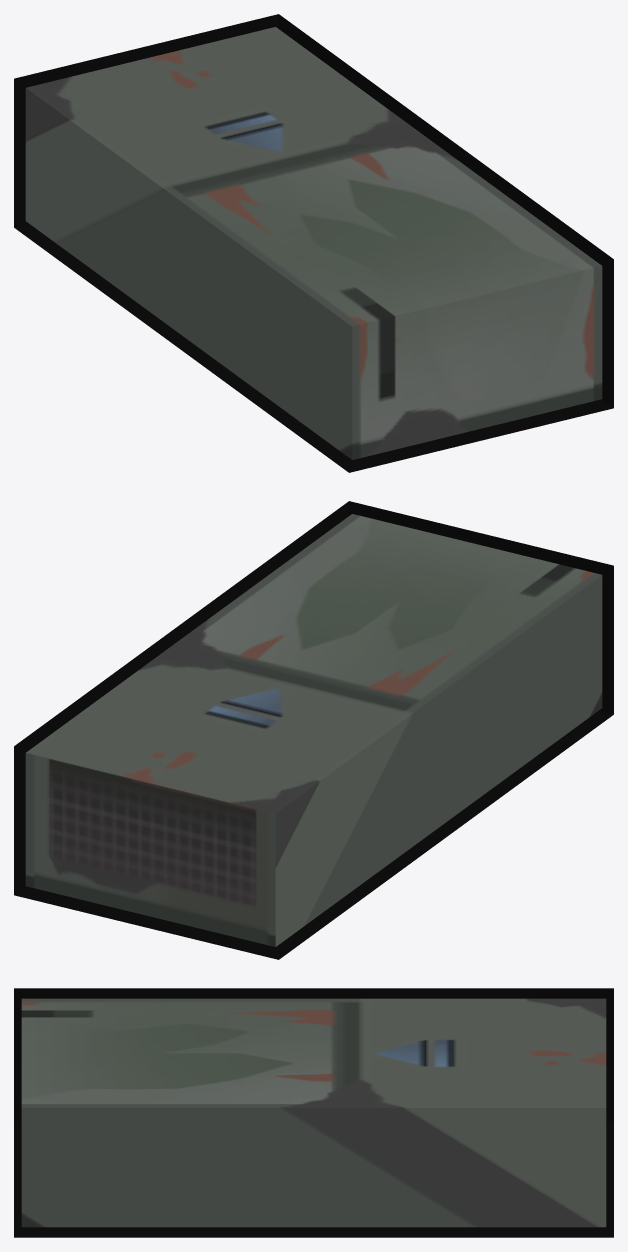
File: Building_AncientColdStorage_Things_Building_Ancient_House_RustedFridge.glb
3 views of the same model, one above another, from view 1: azimuth 30°, elevation 25°; view 2: azimuth 150°, elevation 25°; view 3: azimuth 270°, elevation 25° (orthographic). The views are drawn at different scales.
Parts seen in each view (by area): view 1: Body, Outline; view 2: Body, Outline; view 3: Body, Outline.
Part boxes in pixels (x1,y1,x2,y2): Body: (25,27,602,459); Outline: (14,14,613,472); Body: (25,514,602,946); Outline: (14,501,613,959); Body: (21,998,606,1227); Outline: (14,988,613,1237).
Bounding box in the file's own units: 0.9604 × 0.5162 × 2.1.
Materials: 2 (1 with a texture image).
